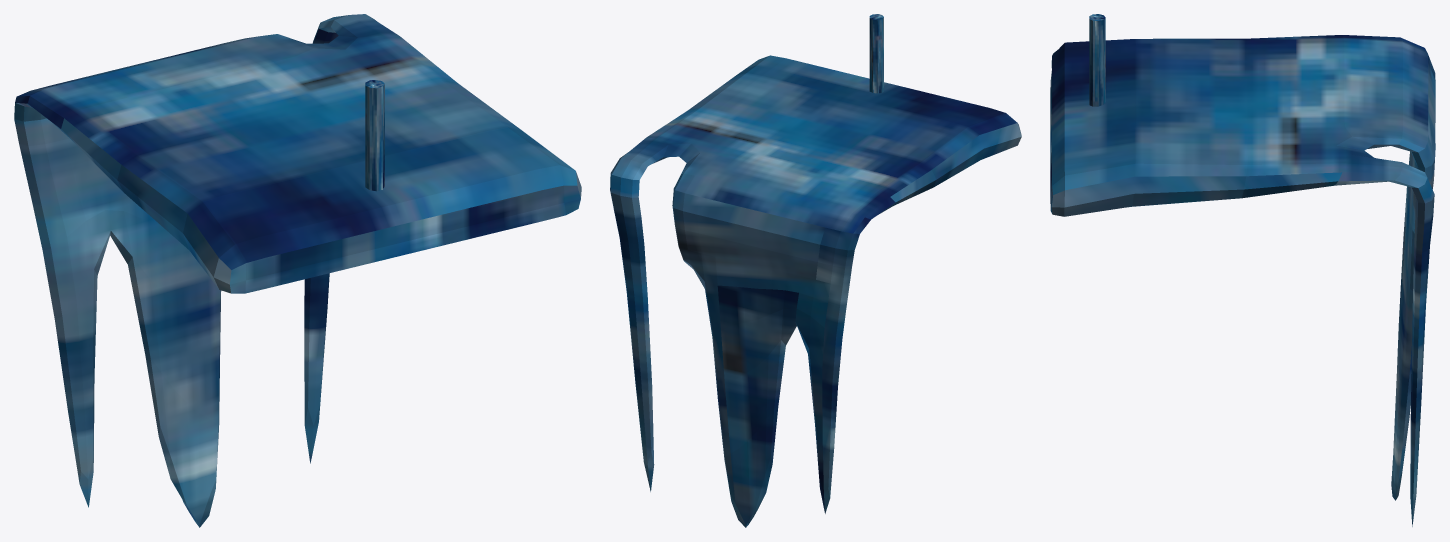
The model's file is sink-water.glb.
3 views of the same model, side by side, from view 1: azimuth 30°, elevation 25°; view 2: azimuth 150°, elevation 25°; view 3: azimuth 270°, elevation 25° (orthographic). The views are drawn at different scales.
Visible parts, largest first — view 1: sinkwater; view 2: sinkwater; view 3: sinkwater.
Boxes of the visible parts, x1=… form: sinkwater: x1=14, y1=14, x2=581, y2=527; sinkwater: x1=610, y1=14, x2=1021, y2=527; sinkwater: x1=1050, y1=14, x2=1435, y2=526.
Bounding box in the file's own units: 2.1 × 3.13 × 2.27.
Materials: 1 (1 with a texture image).
